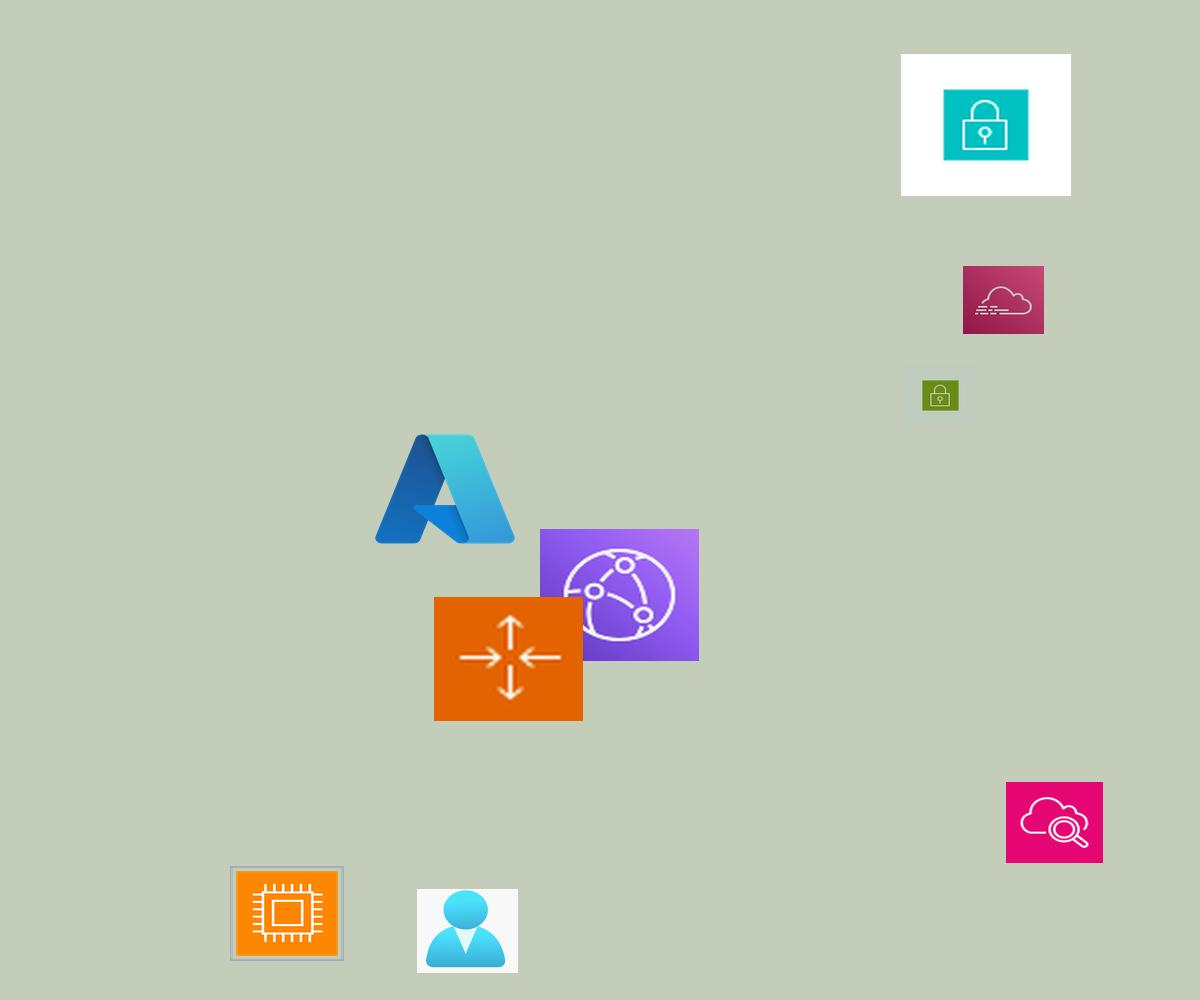AWS-Category_Compute: (230, 866, 344, 961)
AWS-CloudFront: (540, 529, 699, 661)
AWS-CloudTrail: (963, 266, 1044, 334)
AWS-CloudWatch: (1006, 782, 1103, 863)
AWS-Private-subnet: (901, 54, 1071, 196)
AWS-Public-subnet: (904, 365, 977, 426)
AWS-Scaling-group: (434, 597, 583, 721)
Azure_services: (369, 426, 521, 552)
Azure_users: (417, 889, 518, 973)
